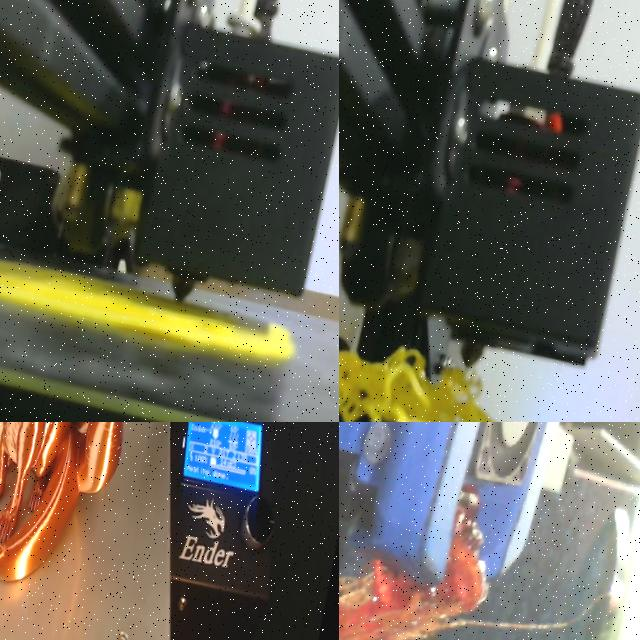spaghetti: (339, 486, 507, 640), (339, 485, 488, 640), (339, 347, 495, 422)
